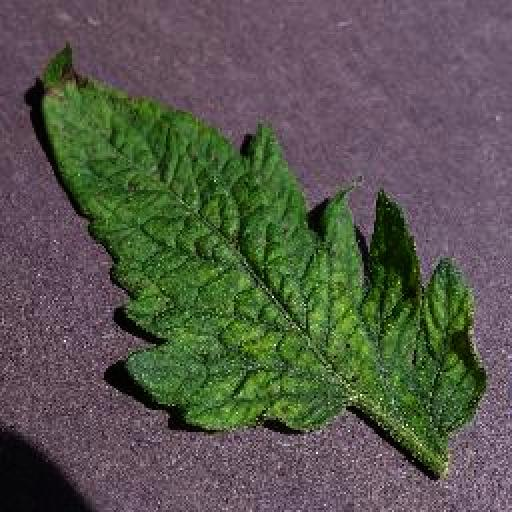Mosaic Virus: (36, 42, 486, 440)
